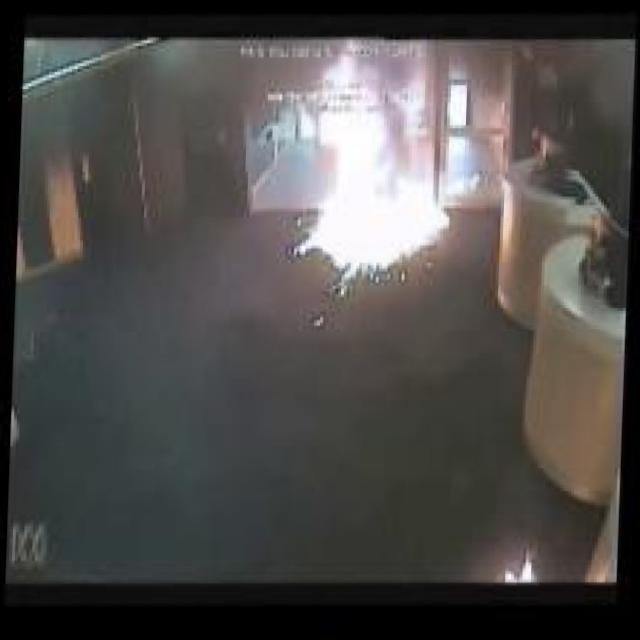fire: (272, 45, 466, 306)
